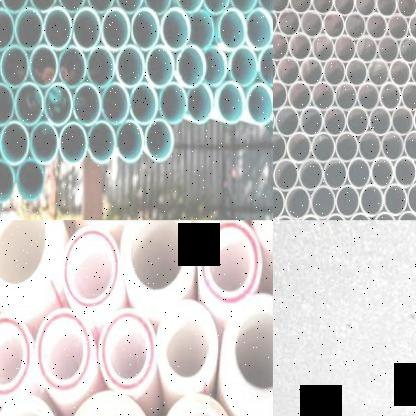pipe: (120, 221, 195, 300), (156, 299, 218, 392), (197, 221, 263, 304), (223, 294, 273, 403), (99, 307, 155, 395), (62, 227, 121, 309), (35, 309, 91, 391), (0, 220, 56, 297), (0, 312, 31, 396), (62, 389, 156, 416), (160, 393, 237, 416), (101, 7, 131, 52), (14, 82, 44, 126), (0, 120, 29, 165), (73, 82, 102, 127), (0, 394, 59, 416), (115, 44, 145, 87), (16, 158, 45, 202), (145, 118, 174, 162), (161, 7, 190, 51), (73, 7, 102, 51), (30, 120, 58, 165), (44, 83, 73, 126), (177, 45, 206, 88), (131, 8, 160, 51), (88, 120, 116, 164), (59, 122, 88, 164), (58, 46, 87, 88), (146, 45, 175, 87), (15, 8, 44, 50), (159, 82, 187, 125), (1, 45, 29, 88), (245, 7, 273, 50), (44, 7, 72, 50), (216, 82, 245, 123), (116, 120, 144, 162), (101, 82, 129, 124), (87, 46, 115, 88), (29, 45, 57, 87), (219, 9, 247, 51), (130, 83, 158, 124), (229, 46, 257, 87), (246, 83, 273, 125), (188, 10, 215, 50), (203, 46, 228, 87), (187, 84, 213, 123), (284, 186, 311, 220), (298, 158, 324, 192), (310, 185, 335, 220), (286, 131, 312, 164), (273, 159, 299, 192), (359, 184, 384, 218), (335, 185, 360, 219), (383, 183, 407, 217), (323, 158, 348, 190), (275, 106, 300, 138), (299, 106, 324, 138), (347, 157, 371, 190), (335, 131, 359, 163), (323, 106, 347, 138), (288, 32, 313, 62), (358, 131, 382, 162), (311, 132, 335, 163), (288, 81, 312, 112), (393, 156, 416, 188), (371, 157, 394, 189), (381, 130, 404, 162), (276, 57, 301, 86), (368, 106, 392, 136), (334, 82, 358, 112), (311, 33, 335, 63), (311, 82, 335, 112), (300, 10, 324, 39), (322, 11, 346, 40), (277, 9, 301, 38), (346, 106, 369, 136), (391, 106, 414, 136), (367, 58, 390, 88), (389, 58, 412, 88), (300, 57, 323, 87), (357, 82, 380, 112), (0, 159, 15, 204), (323, 58, 346, 87), (345, 58, 368, 87), (379, 82, 401, 112), (344, 12, 367, 40), (356, 35, 378, 64), (377, 35, 399, 64), (0, 6, 14, 51), (334, 35, 356, 63), (366, 13, 388, 41), (0, 83, 14, 126), (259, 45, 273, 87), (387, 14, 408, 41), (399, 35, 416, 64), (273, 31, 289, 61), (401, 82, 416, 111), (273, 80, 287, 111), (273, 131, 286, 164), (403, 130, 416, 161), (273, 187, 285, 220), (144, 0, 172, 14), (116, 0, 144, 14), (375, 0, 396, 18), (87, 0, 116, 13), (57, 0, 86, 13), (175, 0, 204, 13), (29, 0, 58, 13), (355, 0, 377, 17), (203, 0, 229, 14), (230, 0, 258, 13), (0, 0, 28, 13), (396, 0, 416, 18), (333, 0, 355, 16), (311, 0, 334, 15), (289, 0, 313, 14), (407, 183, 416, 215), (408, 13, 416, 41), (273, 0, 290, 13), (347, 212, 372, 220), (372, 212, 397, 220), (396, 210, 416, 220), (322, 213, 348, 220), (258, 0, 273, 12), (410, 59, 416, 87), (273, 7, 278, 37), (413, 105, 416, 136)
